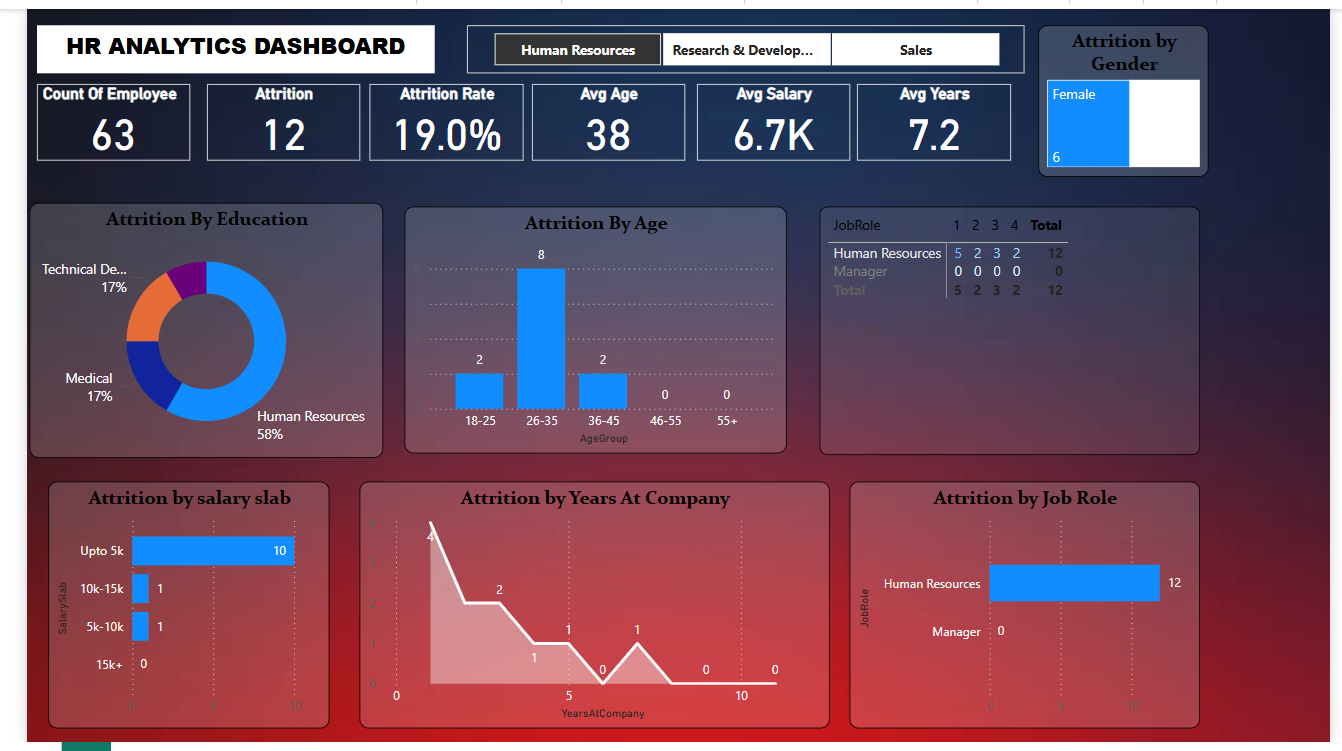

The page's visual inventory and layout, read from the dashboard file:
{"tool":"powerbi","page":{"name":"Page 1","canvas":[1280,720],"ordinal":0},"visuals":[{"type":"card","title":"Count Of Employee","fields":{"Values":["CountNonNull(HR_Analytics.EmpID)"]},"box":[10,73.8,150,75],"z":0},{"type":"card","title":"Attrition","fields":{"Values":["Sum(HR_Analytics.AttritionCount)"]},"box":[176.2,73.8,150,75],"z":1000},{"type":"card","title":"Attrition Rate","fields":{"Values":["HR_Analytics.AttritionRate"]},"box":[336.2,73.8,151.2,75],"z":2000},{"type":"card","title":"Avg Age","fields":{"Values":["Avg(HR_Analytics.Age)"]},"box":[496.2,73.8,150,75],"z":3000},{"type":"card","title":"Avg Years","fields":{"Values":["Avg(HR_Analytics.YearsAtCompany)"]},"box":[815,73.8,151.2,75],"z":4000},{"type":"card","title":"Avg Salary","fields":{"Values":["Avg(HR_Analytics.MonthlyIncome)"]},"box":[657.5,73.8,150,75],"z":5000},{"type":"donutChart","title":"Attrition By Education","fields":{"Category":["HR_Analytics.EducationField"],"Y":["Sum(HR_Analytics.AttritionCount)"]},"box":[2.5,190,347.5,250],"z":6000},{"type":"pivotTable","fields":{"Rows":["HR_Analytics.JobRole"],"Columns":["HR_Analytics.JobSatisfaction"],"Values":["Sum(HR_Analytics.AttritionCount)"]},"box":[777.5,193.8,373.8,243.8],"z":7000},{"type":"columnChart","title":"Attrition By Age","fields":{"Category":["HR_Analytics.AgeGroup","HR_Analytics.EducationField"],"Y":["Sum(HR_Analytics.AttritionCount)"]},"box":[370,193.8,375,242.5],"z":8000},{"type":"barChart","title":"Attrition by salary slab","fields":{"Category":["HR_Analytics.SalarySlab"],"Y":["Sum(HR_Analytics.AttritionCount)"]},"box":[21.2,463.8,276.2,242.5],"z":9000},{"type":"barChart","title":"Attrition by Job Role","fields":{"Category":["HR_Analytics.JobRole"],"Y":["Sum(HR_Analytics.AttritionCount)"]},"box":[807.5,463.8,343.8,242.5],"z":10000},{"type":"areaChart","title":"Attrition by Years At Company","fields":{"Category":["HR_Analytics.YearsAtCompany"],"Y":["Sum(HR_Analytics.AttritionCount)"]},"box":[326.2,463.8,461.2,242.5],"z":11000},{"type":"treemap","title":"Attrition by Gender","fields":{"Group":["HR_Analytics.Gender"],"Values":["Sum(HR_Analytics.AttritionCount)"]},"box":[992.5,16.2,167.5,148.8],"z":12000},{"type":"slicer","fields":{"Values":["HR_Analytics.Department"]},"box":[432.5,16.2,547.5,47.5],"z":13000},{"type":"textbox","box":[10,16.2,390,47.5],"z":14000}]}

Visuals, with their boxes in screenshot pixels (x1, y1, x2, y2), scaled from the page's 1280x720 canvas onto the 1342x751 screenshot:
"Count Of Employee" card: (10, 77, 168, 155)
"Attrition" card: (185, 77, 342, 155)
"Attrition Rate" card: (352, 77, 511, 155)
"Avg Age" card: (520, 77, 678, 155)
"Avg Years" card: (854, 77, 1013, 155)
"Avg Salary" card: (689, 77, 847, 155)
"Attrition By Education" donutChart: (3, 198, 367, 459)
pivotTable - HR_Analytics.JobRole x HR_Analytics.JobSatisfaction: (815, 202, 1207, 456)
"Attrition By Age" columnChart: (388, 202, 781, 455)
"Attrition by salary slab" barChart: (22, 484, 312, 737)
"Attrition by Job Role" barChart: (847, 484, 1207, 737)
"Attrition by Years At Company" areaChart: (342, 484, 826, 737)
"Attrition by Gender" treemap: (1041, 17, 1216, 172)
slicer - HR_Analytics.Department: (453, 17, 1027, 66)
textbox: (10, 17, 419, 66)
